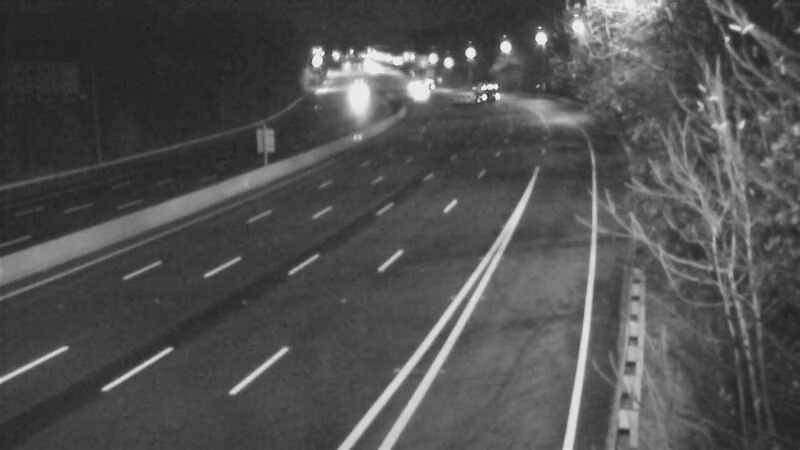vehicle: (388, 58, 438, 108), (453, 65, 503, 115), (396, 68, 446, 118), (334, 77, 384, 127)
